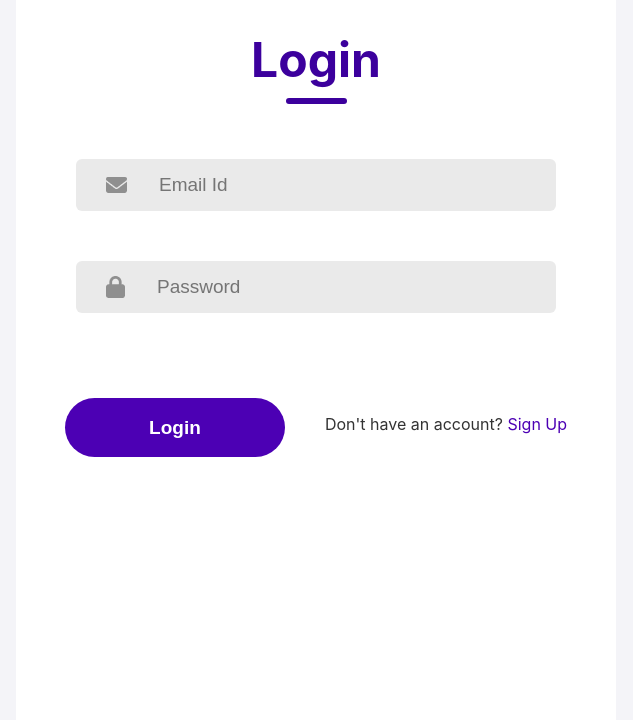
Test: Login Component Tests › shows email format error on invalid email
Type "invalidemail" into the field with placeholder "Email Id".
click(356, 185); type("invalidemail")  # box [157,159,556,211]
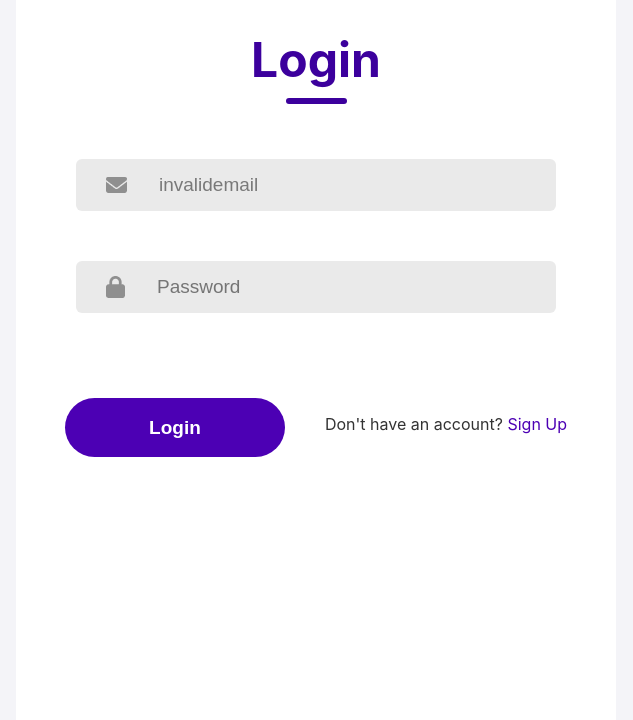
Click the button "Login".
click(175, 428)  # box [65,398,285,457]
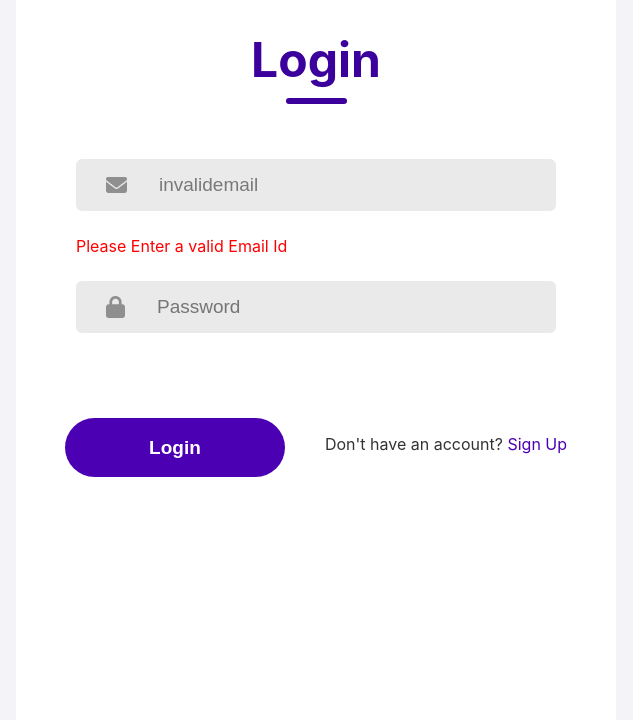
Expected: the text "Please Enter a valid Email Id" is shown, [76,236,287,256]
